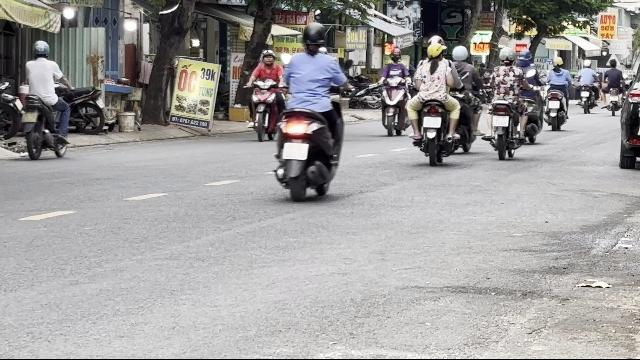helmet: (300, 22, 328, 52), (32, 40, 50, 58), (451, 44, 469, 62), (426, 43, 444, 61), (498, 48, 514, 64), (425, 36, 445, 48), (261, 48, 275, 64), (388, 46, 402, 62)
licenseplate: (282, 142, 308, 158), (423, 116, 441, 128), (21, 112, 37, 122), (492, 116, 508, 126)
motorcyclist: (270, 21, 348, 201), (406, 38, 462, 165), (15, 40, 70, 160), (482, 46, 522, 158), (245, 49, 282, 140), (376, 47, 412, 135)
